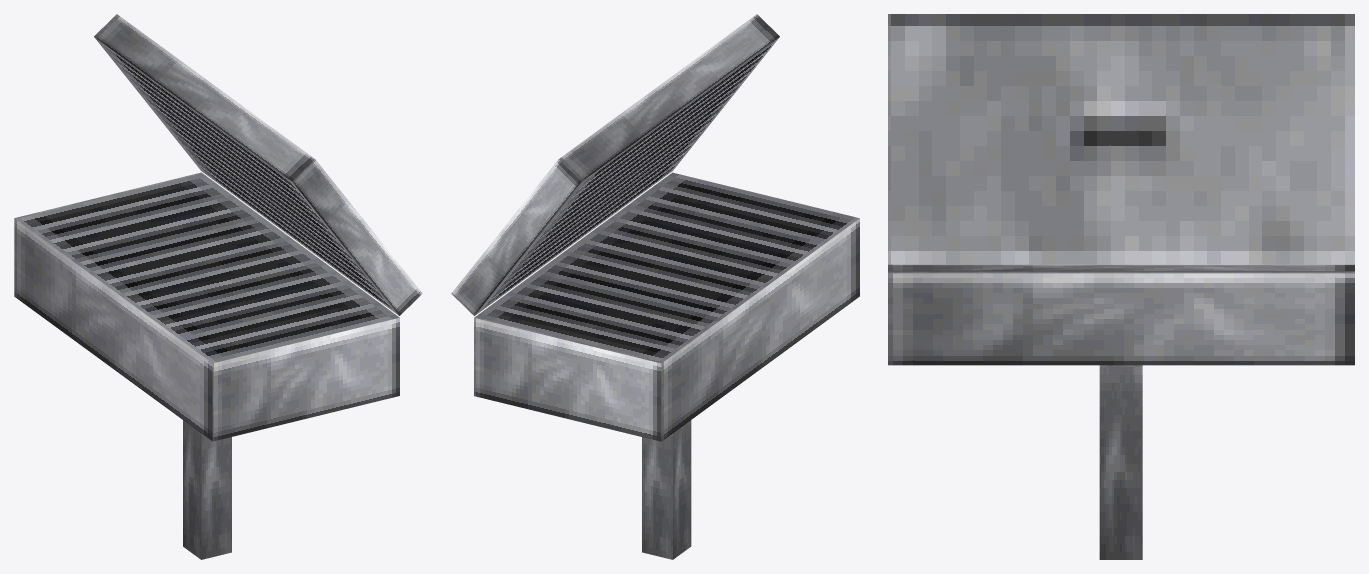
Rendered from grill.glb.
3 renders of one model, left to right at view 1: azimuth 30°, elevation 25°; view 2: azimuth 150°, elevation 25°; view 3: azimuth 270°, elevation 25°, orthographic. The views are drawn at different scales.
Parts seen in each view (by area): view 1: grill; view 2: grill; view 3: grill.
Boxes of the visible parts, bbox=[...] form: grill: bbox=[14, 14, 422, 559]; grill: bbox=[451, 14, 859, 559]; grill: bbox=[888, 14, 1354, 559].
Bounding box in the file's own units: 67.87 × 142 × 111.
1 material, 1 textured.
